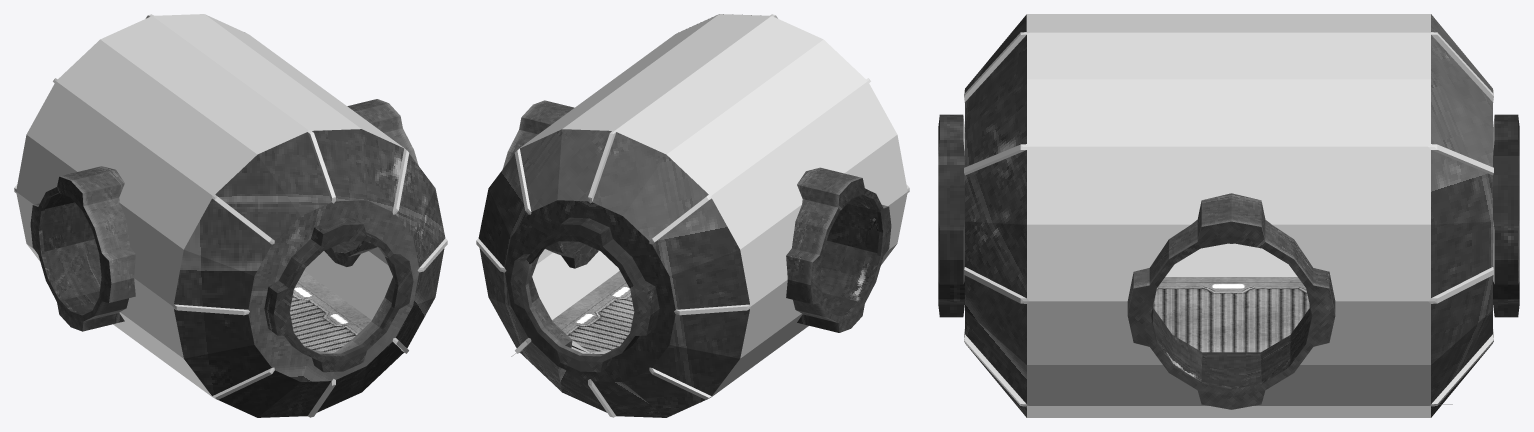
Rendered from small_four_way_station.glb.
3 renders of one model, left to right at view 1: azimuth 30°, elevation 25°; view 2: azimuth 150°, elevation 25°; view 3: azimuth 270°, elevation 25°, orthographic. The views are drawn at different scales.
Visible parts, largest first — view 1: Small Four Way Station Module; view 2: Small Four Way Station Module; view 3: Small Four Way Station Module.
Part boxes in pixels (x1,y1,x2,y2): Small Four Way Station Module: (14, 14, 447, 417); Small Four Way Station Module: (476, 14, 909, 417); Small Four Way Station Module: (938, 14, 1519, 417).
Bounding box in the file's own units: 6.22 × 5.3 × 7.62.
Materials: 3 (2 with a texture image).
